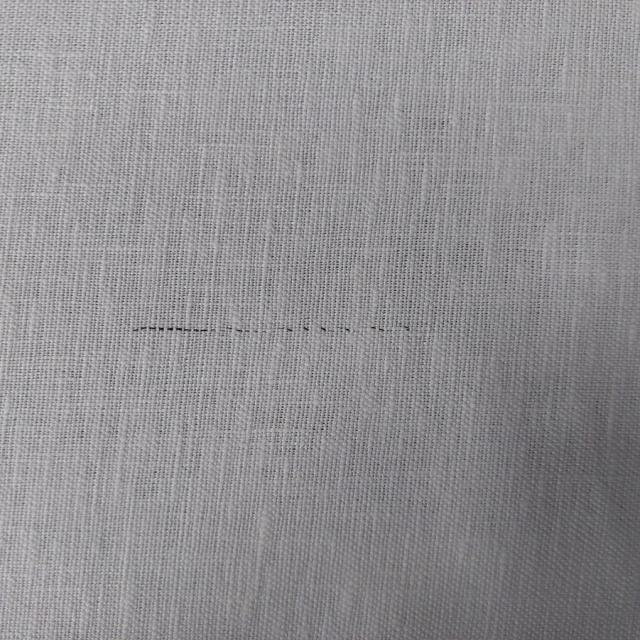stains: (87, 294, 484, 364)
